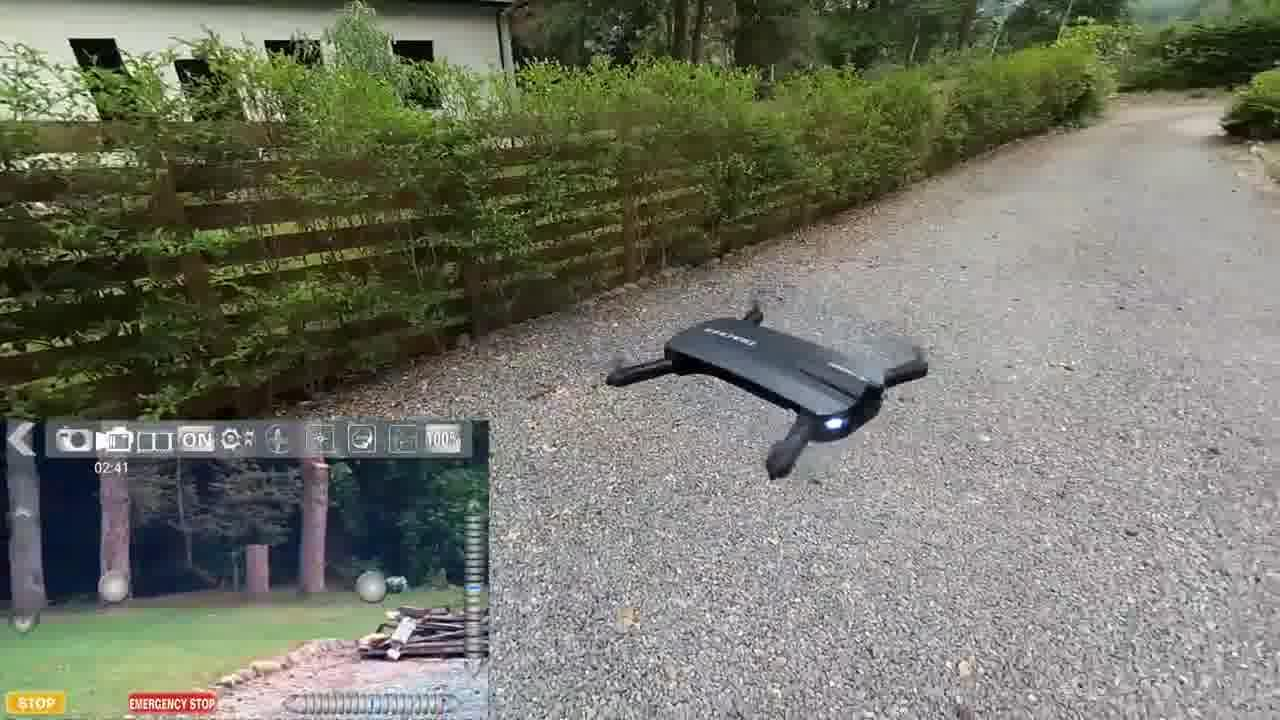drone: (593, 280, 958, 493)
